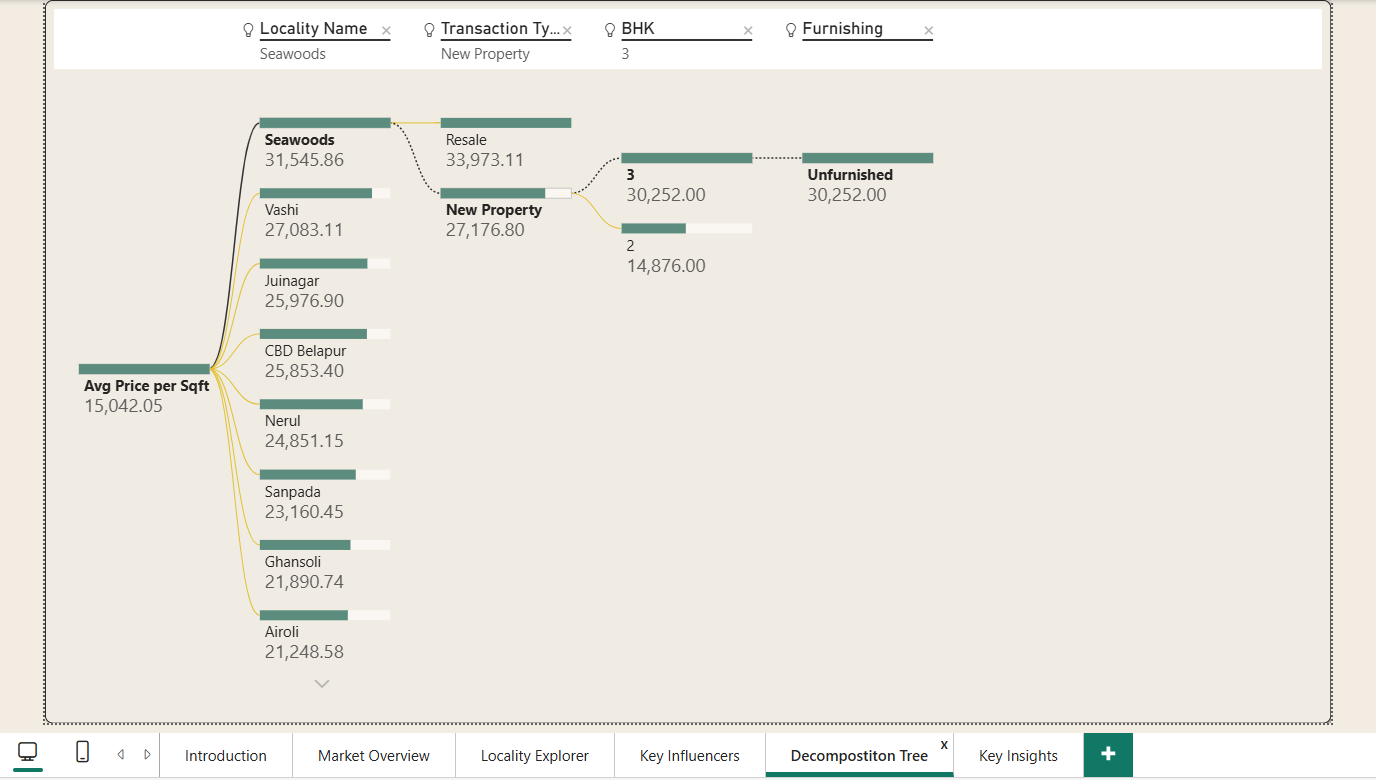

What the dashboard file says about the page in this screenshot:
{"tool":"powerbi","page":{"name":"Decompostiton Tree","canvas":[1280,720],"ordinal":4},"visuals":[{"type":"decompositionTreeVisual","fields":{"Analyze":["_Measures.Avg Price per Sqft"],"ExplainBy":["localities.Locality Name","properties.Transaction Type","properties.BHK","properties.Furnishing"]},"box":[0,0,1280,720],"z":0}]}

Visuals, with their boxes on the page's 1280x720 design canvas (x1, y1, x2, y2). These are canvas units, not pixel positions in the 1376x780 screenshot, which may show the page scaled, cropped or inside an application window:
decompositionTreeVisual - _Measures.Avg Price per Sqft x localities.Locality Name: 0, 0, 1280, 720
